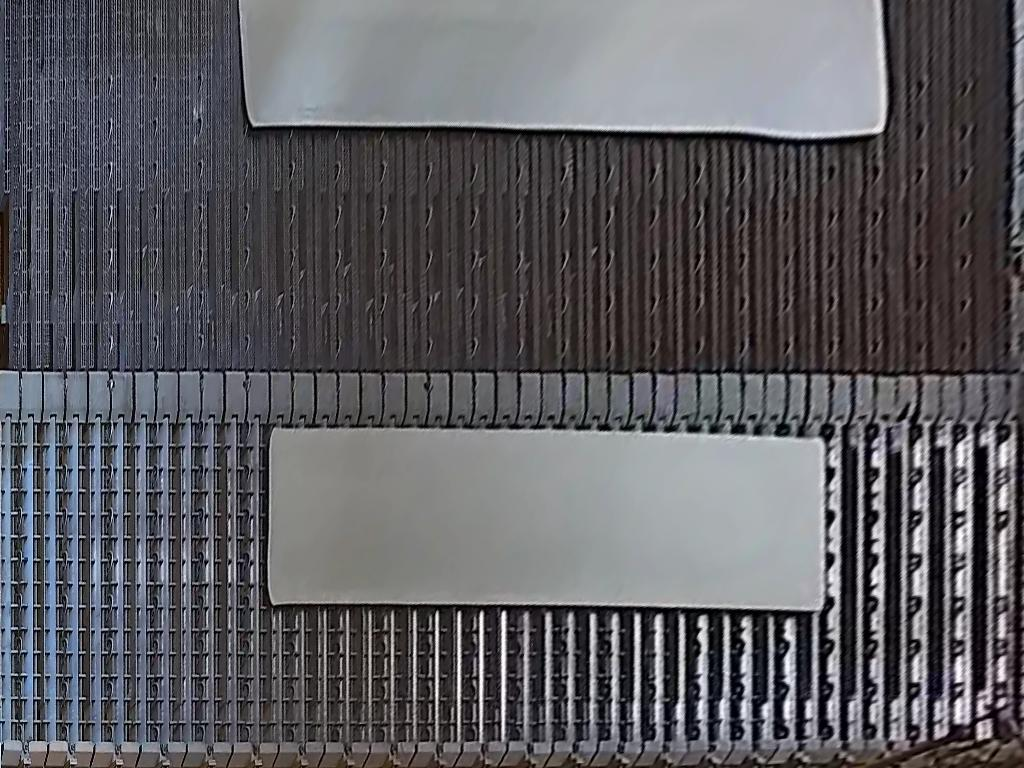steel: (267, 426, 826, 612), (240, 1, 889, 140)
